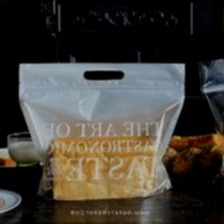snack: (13, 56, 194, 204)
